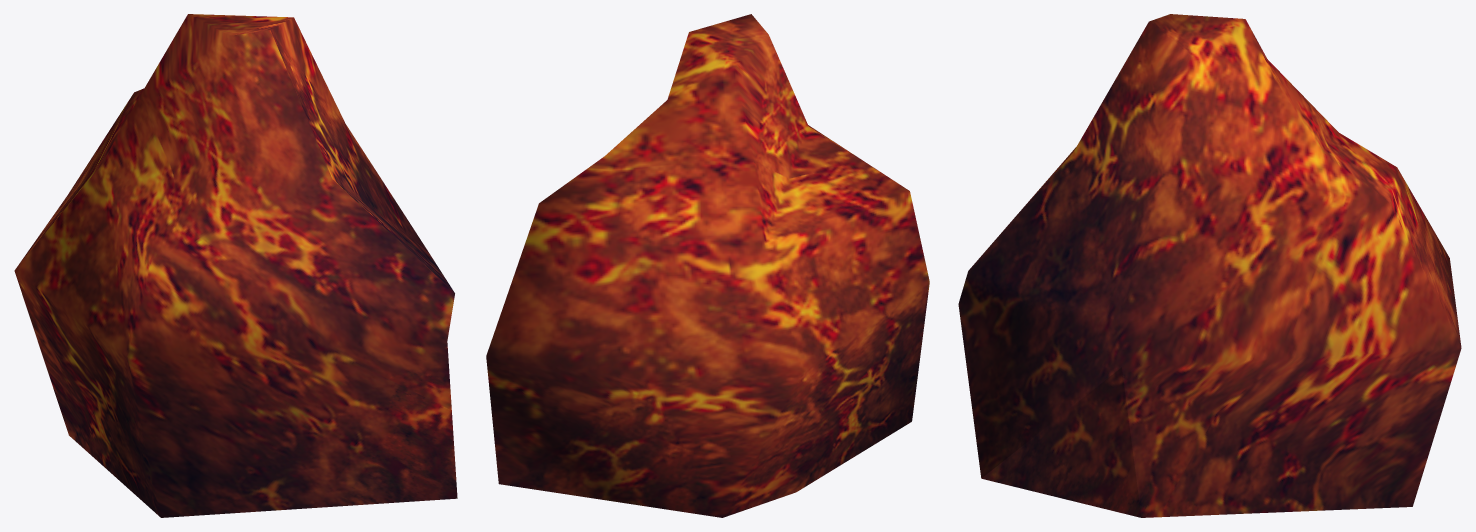
Rendered from Scene_yuanshitou_001.FBX.
3 views of the same model, side by side, from view 1: azimuth 30°, elevation 25°; view 2: azimuth 150°, elevation 25°; view 3: azimuth 270°, elevation 25° (orthographic). The views are drawn at different scales.
Visible parts, largest first — view 1: Scene_yuanshitou_001; view 2: Scene_yuanshitou_001; view 3: Scene_yuanshitou_001.
Boxes of the visible parts, x1,y1,x2,y2 form: Scene_yuanshitou_001: (14,14,457,517); Scene_yuanshitou_001: (486,14,929,517); Scene_yuanshitou_001: (958,14,1461,517).
Size of the model in its own units: 17.13 by 21.67 by 23.41.
